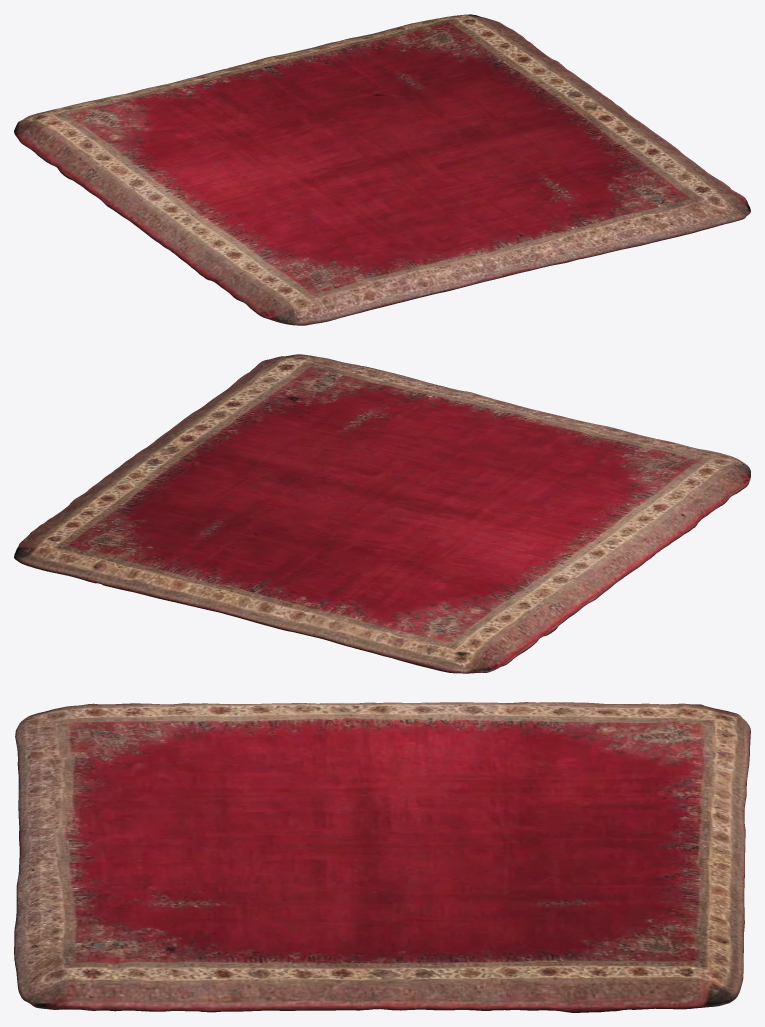
The model's file is rug.glb.
3 views of the same model, one above another, from view 1: azimuth 30°, elevation 25°; view 2: azimuth 150°, elevation 25°; view 3: azimuth 270°, elevation 25° (orthographic). The views are drawn at different scales.
Size of the model in its own units: 1.95 by 0.0669 by 1.99.
Materials: 1 (1 with a texture image).
